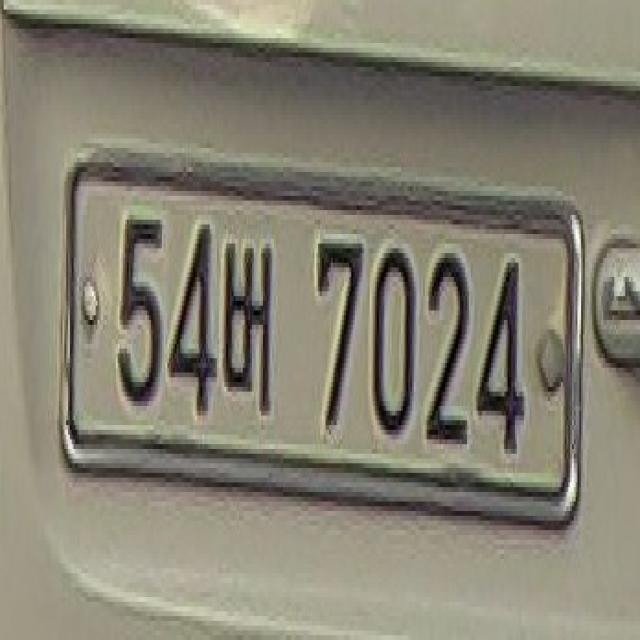0: (371, 206, 425, 440)
2: (417, 244, 482, 458)
4: (471, 244, 548, 468), (167, 148, 221, 416)
5: (103, 186, 175, 416)
7: (309, 210, 366, 449)
beo: (213, 215, 289, 435)
license_plate: (51, 158, 578, 535)
